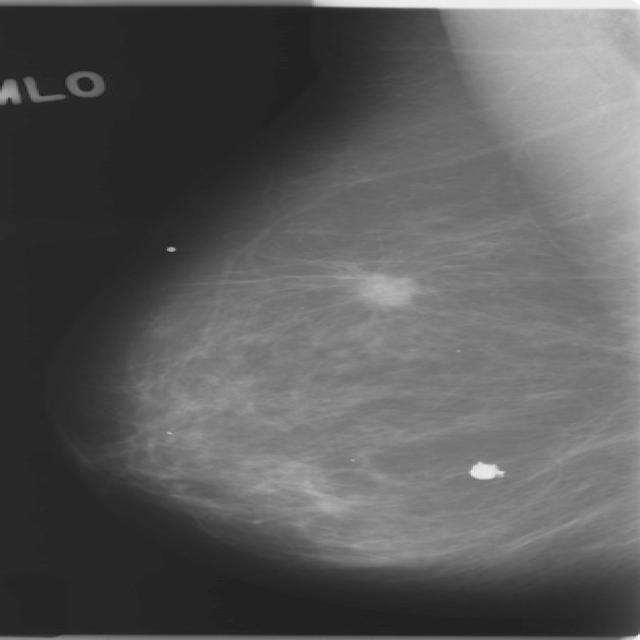tumour: (348, 272, 418, 306)
